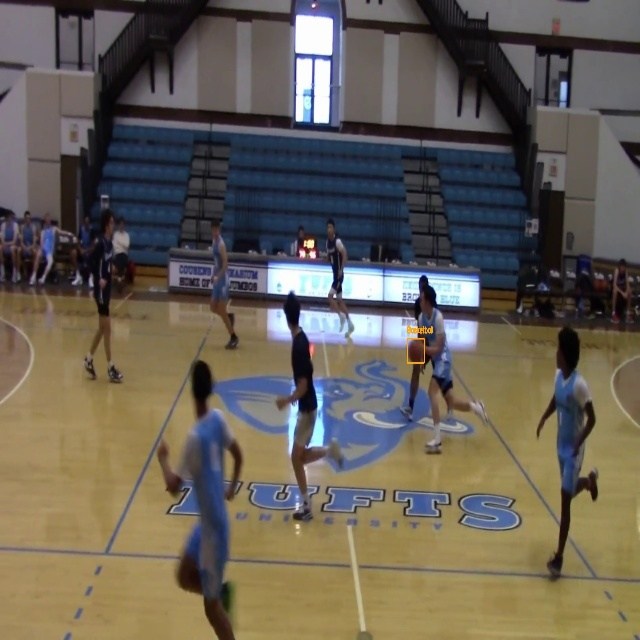Basketball: (407, 339, 424, 363)
